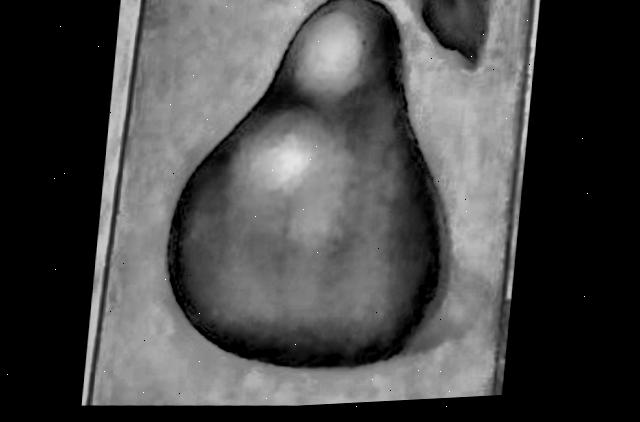La Pera: (92, 0, 531, 409)
